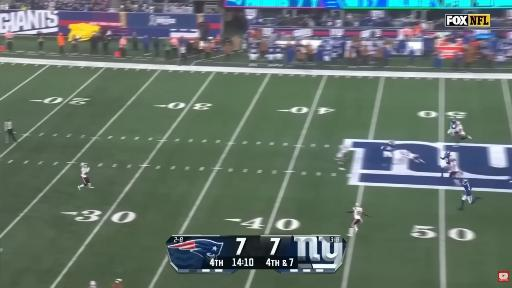Helmet: (451, 120, 456, 125), (463, 179, 468, 184), (451, 156, 456, 161), (389, 140, 394, 144), (80, 163, 86, 166), (445, 151, 449, 155), (356, 203, 359, 206)
Jersey: (381, 143, 395, 157), (448, 158, 459, 172), (442, 151, 451, 165), (463, 181, 471, 196), (353, 207, 363, 219), (382, 144, 395, 152), (81, 167, 89, 177)
Player: (347, 203, 369, 236), (448, 120, 471, 143), (448, 158, 462, 186), (460, 179, 473, 209), (78, 163, 93, 189), (335, 145, 349, 170), (381, 141, 395, 165), (402, 151, 424, 163), (441, 151, 451, 176), (381, 141, 395, 157)
